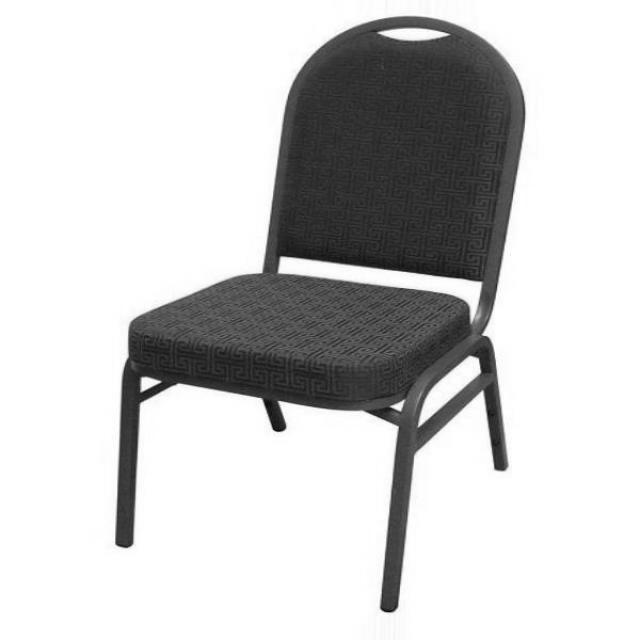chair: (110, 6, 530, 614)
